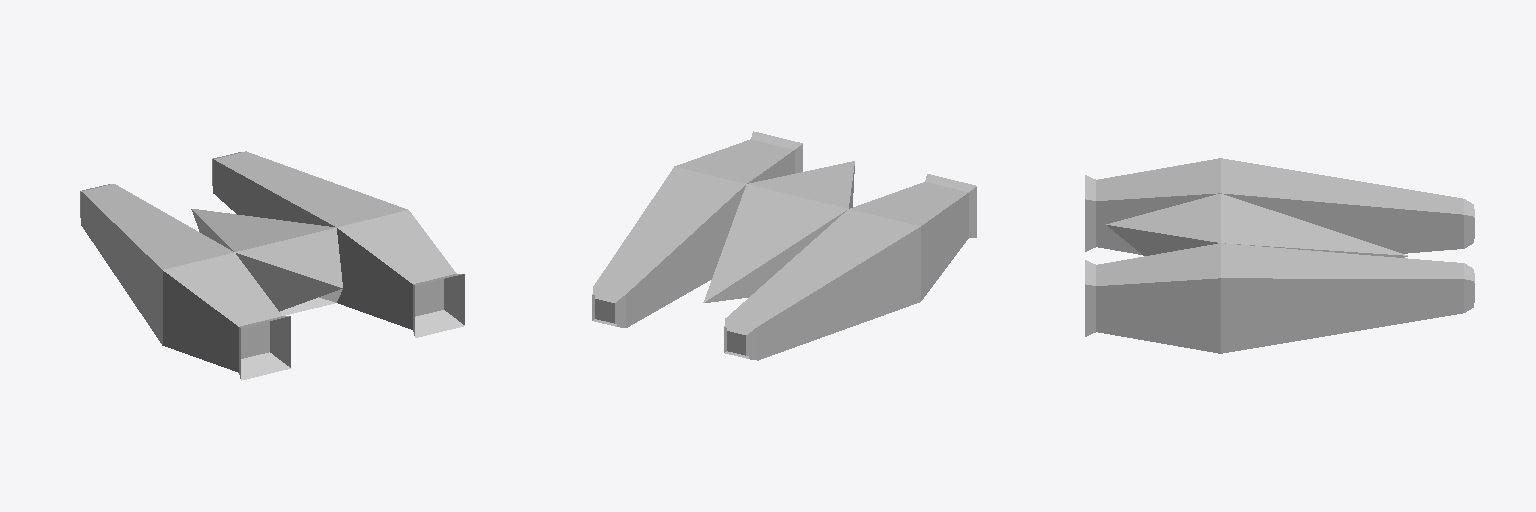
File: Prototype_Ship.obj
The picture shows the model from 3 angles: view 1: azimuth 30°, elevation 25°; view 2: azimuth 150°, elevation 25°; view 3: azimuth 270°, elevation 25°; orthographic projection.
Parts seen in each view (by area): view 1: Cube; view 2: Cube; view 3: Cube.
Boxes of the visible parts, x1=… form: Cube: x1=80, y1=151, x2=464, y2=380; Cube: x1=592, y1=131, x2=976, y2=360; Cube: x1=1085, y1=158, x2=1474, y2=353.
Bounding box in the file's own units: 2.47 × 0.7239 × 3.38.